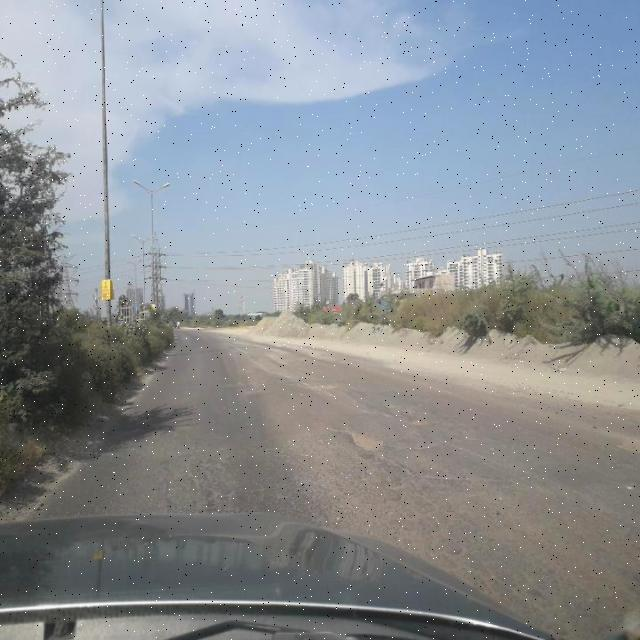D00: (388, 417, 511, 470), (242, 348, 338, 398)
D20: (402, 477, 638, 639), (146, 446, 249, 509)
D40: (319, 494, 422, 534), (381, 393, 443, 429), (332, 424, 390, 460), (307, 368, 351, 401), (606, 428, 640, 458)
